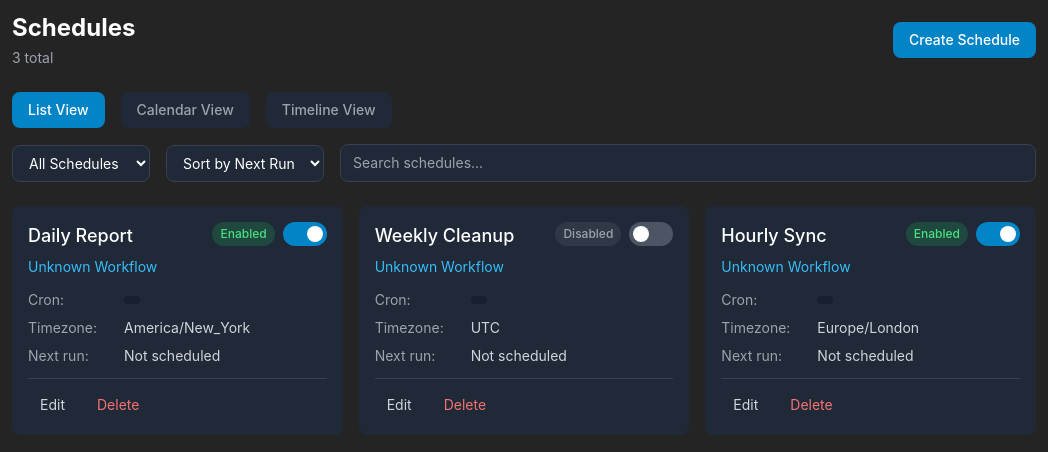
Test: Schedules Page Integration Tests › Filtering › should filter by enabled status
Check: the heading "Daily Report" is shown, box [28,225,133,246]
Check: the heading "Weekly Cleanup" is shown, box [375,225,514,246]
Select enabled only using the status-filter id
Select "Enabled Only" in the 1st dropdown named "Status" at point(81, 163), box [12,144,150,182]
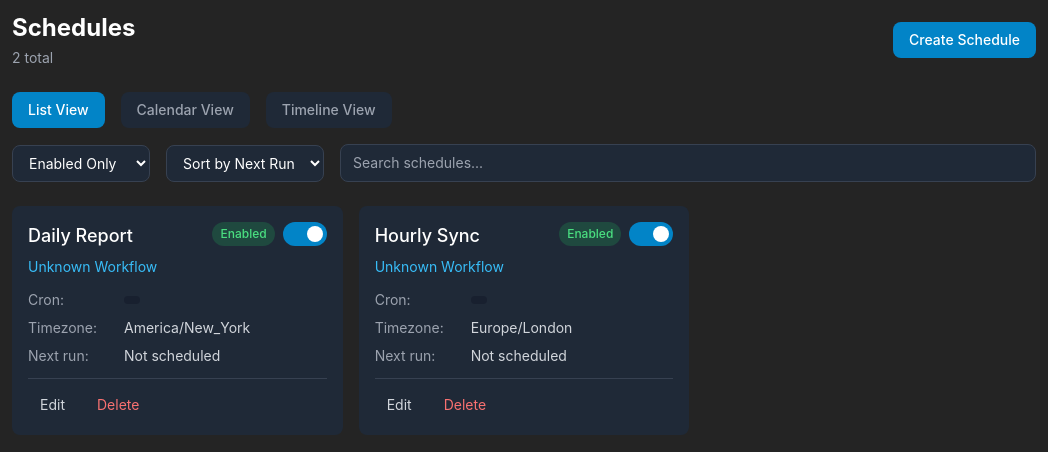
Check: the heading "Daily Report" is shown, box [28,225,133,246]
Check: the text "2 total" is shown, box [12,49,53,66]
Check: the heading "Weekly Cleanup" is gone
